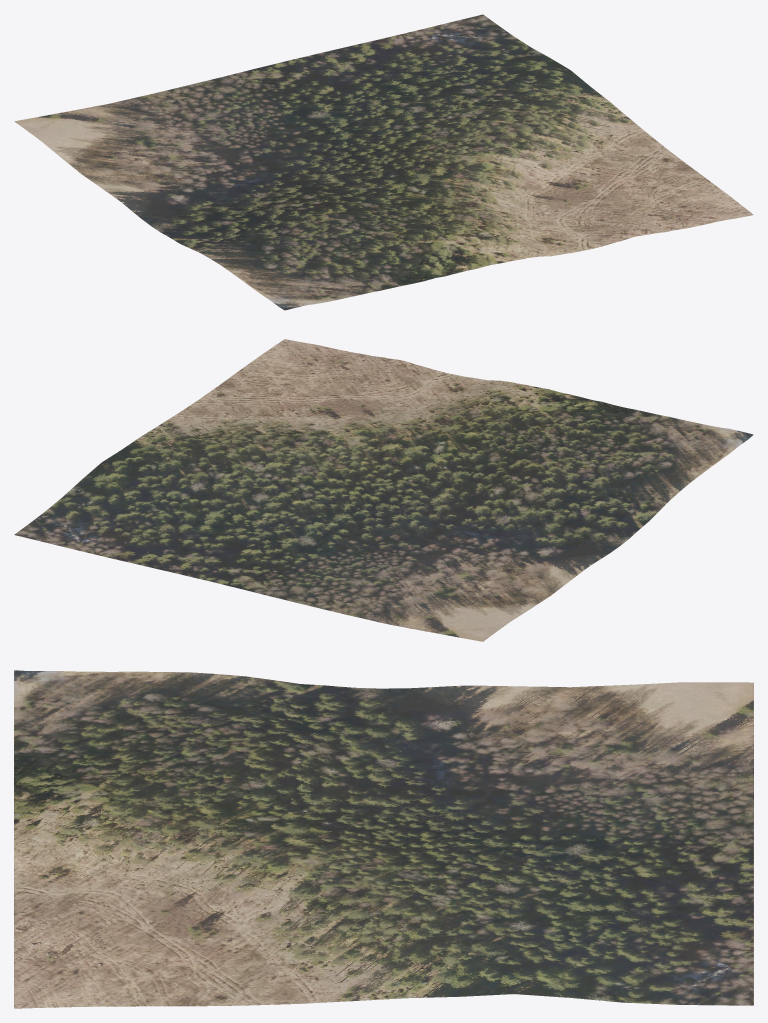
The model's file is CM_Terrain_24490868_6822046.fbx.
3 renders of one model, top to bottom at view 1: azimuth 30°, elevation 25°; view 2: azimuth 150°, elevation 25°; view 3: azimuth 270°, elevation 25°, orthographic. The views are drawn at different scales.
Visible parts, largest first — view 1: CM_Terrain_24490868_6822046_LOD0; view 2: CM_Terrain_24490868_6822046_LOD0; view 3: CM_Terrain_24490868_6822046_LOD0.
Part boxes in pixels (x1=…): CM_Terrain_24490868_6822046_LOD0: x1=14, y1=14, x2=753, y2=310; CM_Terrain_24490868_6822046_LOD0: x1=14, y1=339, x2=753, y2=641; CM_Terrain_24490868_6822046_LOD0: x1=14, y1=670, x2=753, y2=1008.
Size of what is drawn, in the model's own units: 205 by 9.02 by 205.
